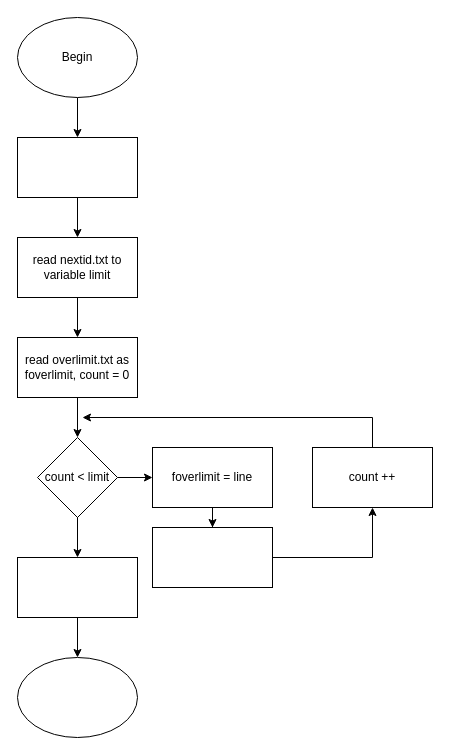
Image size: 450x755. Some labels were removed from this diagram. Each missing label, with the centre of its shape:
declare variables, sum = 0: point 77,167
print sum: point 77,587
sum = sum + line: point 212,557
